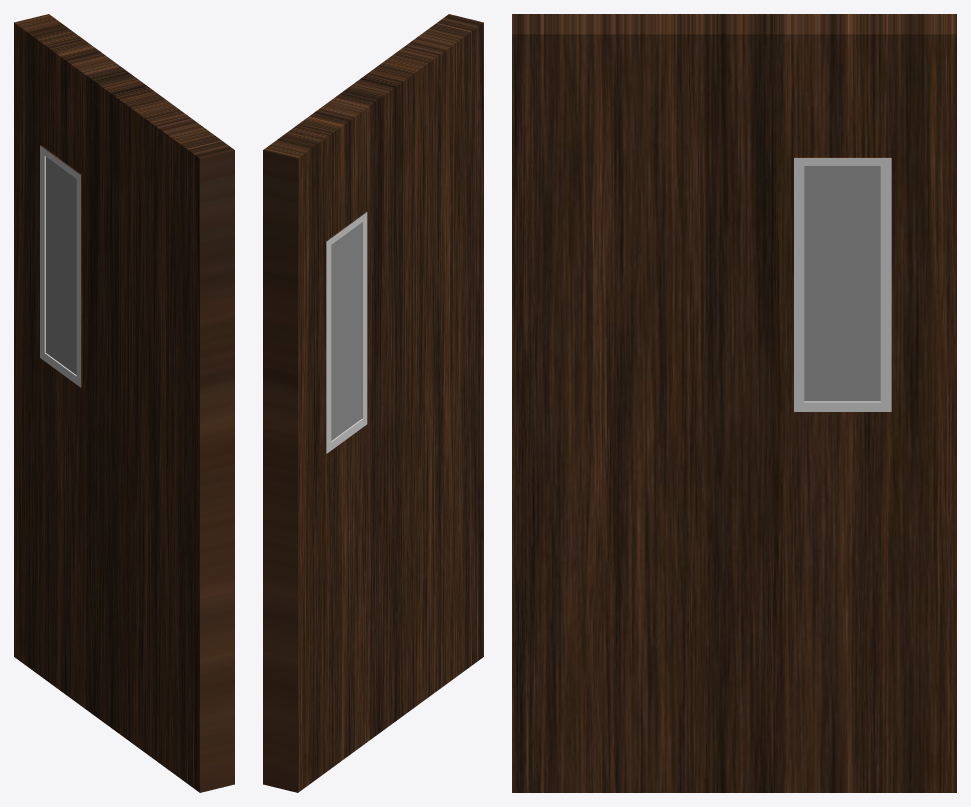
Rendered from Wooden E Door.fbx.
The picture shows the model from 3 angles, left to right: view 1: azimuth 30°, elevation 25°; view 2: azimuth 150°, elevation 25°; view 3: azimuth 270°, elevation 25°; orthographic projection. The views are drawn at different scales.
Visible parts, largest first — view 1: Wooden_E_Door; view 2: Wooden_E_Door; view 3: Wooden_E_Door.
Boxes of the visible parts, box(x1,y1,x2,y2) form: Wooden_E_Door: box(14, 14, 234, 792); Wooden_E_Door: box(263, 14, 483, 792); Wooden_E_Door: box(512, 14, 956, 792).
Size of the model in its own units: 0.717 by 11.6 by 6.16.
Materials: 3 (1 with a texture image).
